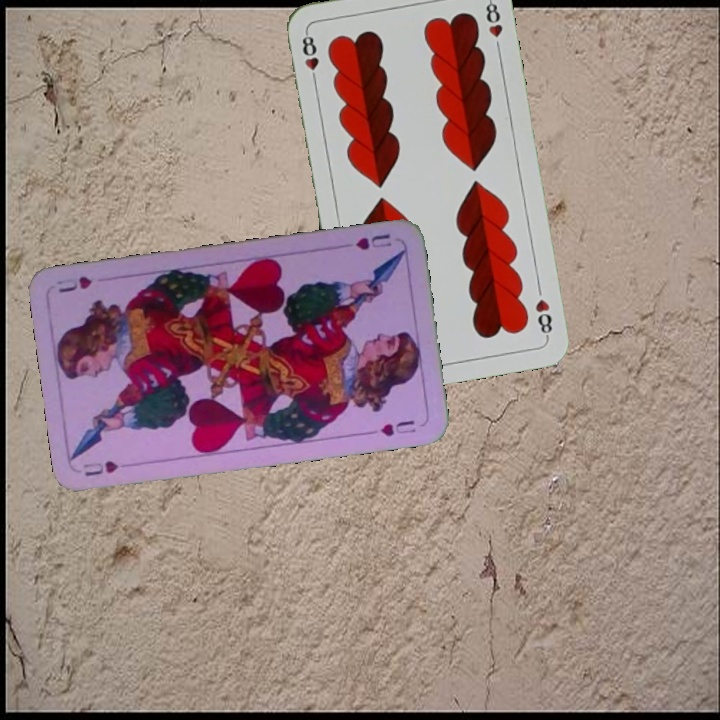H8: (298, 27, 322, 86), (531, 295, 555, 341)
HU: (79, 457, 136, 479), (351, 229, 394, 253)
